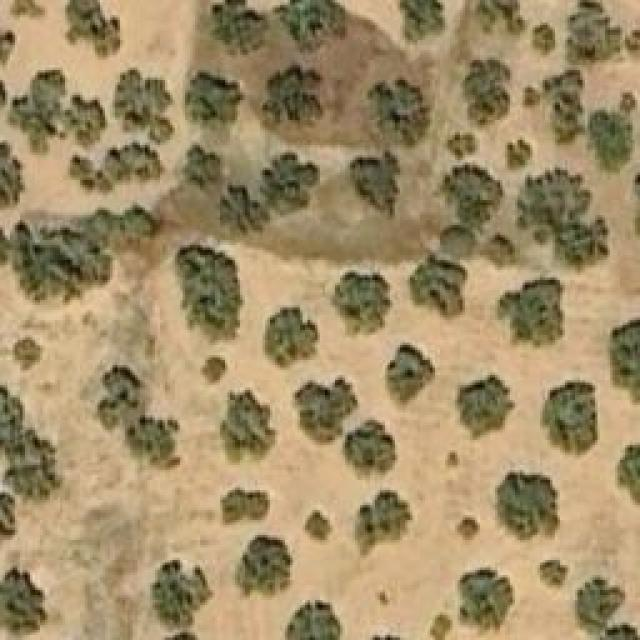Tree: (10, 220, 110, 300), (175, 245, 245, 345), (497, 277, 565, 355), (150, 560, 213, 640), (540, 380, 600, 460), (495, 472, 563, 540), (368, 78, 433, 148), (293, 375, 358, 445), (275, 0, 353, 58), (115, 68, 178, 138), (263, 58, 323, 128), (348, 145, 403, 220), (220, 388, 275, 463), (577, 577, 640, 640), (355, 490, 413, 558), (457, 567, 515, 635), (333, 273, 393, 336), (260, 155, 320, 218), (520, 170, 583, 230), (185, 73, 243, 138), (568, 0, 623, 68), (5, 430, 60, 498), (465, 53, 513, 126), (65, 0, 123, 60), (235, 535, 293, 595), (458, 375, 513, 438), (443, 165, 498, 228), (263, 308, 318, 368), (90, 145, 160, 190), (210, 183, 268, 236), (545, 68, 583, 148), (97, 365, 145, 428), (0, 568, 45, 633), (387, 343, 435, 403), (212, 0, 267, 52), (345, 420, 398, 473), (128, 415, 181, 465), (610, 315, 640, 403), (557, 220, 605, 275), (588, 110, 631, 168), (285, 600, 345, 640), (418, 260, 468, 308), (60, 98, 105, 143), (222, 487, 270, 525), (183, 145, 223, 190), (400, 0, 445, 40), (25, 65, 65, 108), (120, 200, 158, 245), (0, 143, 25, 208), (477, 0, 524, 32), (617, 442, 640, 505), (442, 128, 480, 163), (13, 335, 43, 373), (303, 510, 333, 545), (508, 138, 533, 171), (533, 23, 556, 58), (203, 355, 228, 385), (540, 560, 568, 585), (430, 612, 453, 640), (520, 82, 543, 110), (8, 0, 43, 18), (458, 518, 478, 541)
